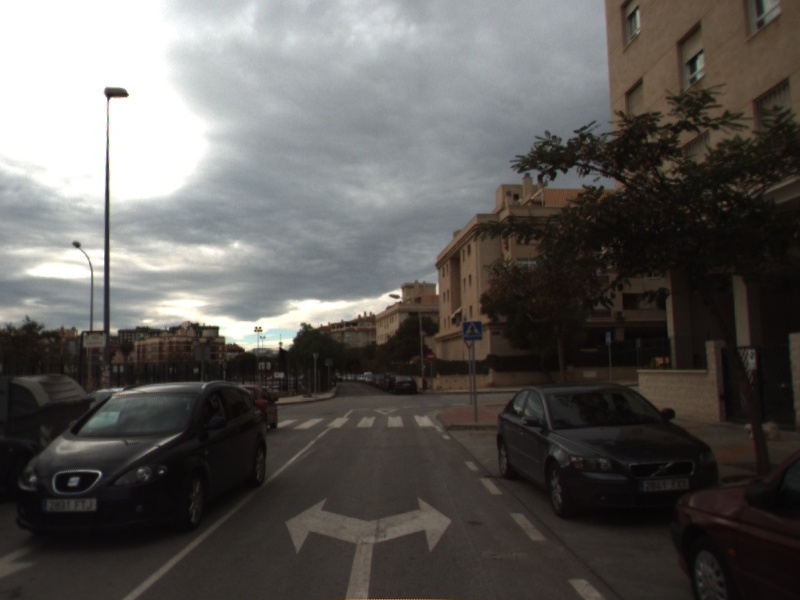LEFT_RIGHT: (283, 491, 455, 600)
